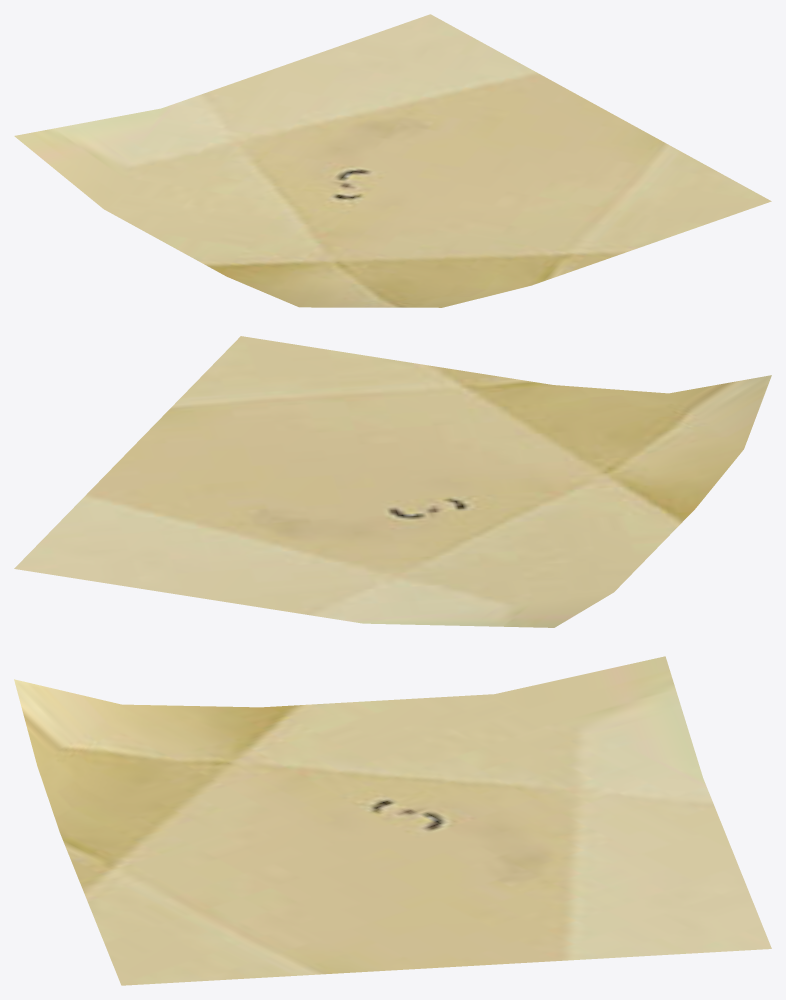
The model's file is Puzzle05_Postit.glb.
The picture shows the model from 3 angles, top to bottom: view 1: azimuth 30°, elevation 25°; view 2: azimuth 150°, elevation 25°; view 3: azimuth 270°, elevation 25°; orthographic projection. The views are drawn at different scales.
Parts seen in each view (by area): view 1: Puzzle5_PaperPostit; view 2: Puzzle5_PaperPostit; view 3: Puzzle5_PaperPostit.
Boxes of the visible parts, <box> form: Puzzle5_PaperPostit: <box>14,14,771,307</box>; Puzzle5_PaperPostit: <box>14,336,771,627</box>; Puzzle5_PaperPostit: <box>14,656,771,985</box>.
Size of the model in its own units: 0.3106 by 0.0227 by 0.3303.
1 material, 1 textured.
